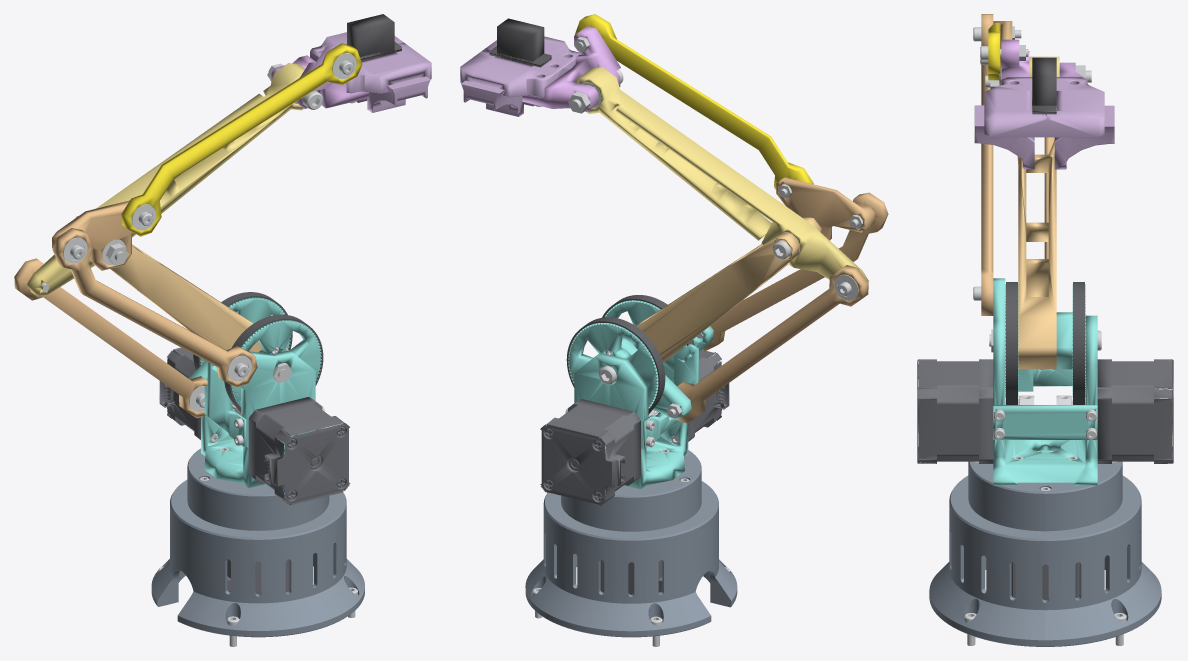
Rendered from arm.glb.
The picture shows the model from 3 angles, left to right: view 1: azimuth 30°, elevation 25°; view 2: azimuth 150°, elevation 25°; view 3: azimuth 270°, elevation 25°; orthographic projection. The views are drawn at different scales.
Parts seen in each view (by area): view 1: yaw-base-housing, NEMA_17, upper_levelling_link_140_(BAM-made), yaw-bearing-cover, main_body, lower_shank_140, upper_shank_140, lower_levelling_link_140, pleuel, gripper-base, triplate, 90T_gear_(lower) (+7 smaller); view 2: yaw-base-housing, upper_shank_140, NEMA_17_2, lower_shank_140, main_body, yaw-bearing-cover, upper_levelling_link_140_(BAM-made), pleuel, gripper-base, lower_levelling_link_140, triplate, manipulator (+8 smaller); view 3: yaw-base-housing, NEMA_17, NEMA_17_2, main_body, yaw-bearing-cover, lower_shank_140, gripper-base, stabilizer, lower_levelling_link_140, belt-shoulder-gt2-200, belt-elbow-gt2-200, gripper-mg90s (+8 smaller).
Boxes of the visible parts, x1,y1,x2,y2 form: yaw-base-housing: [151, 480, 364, 637]; NEMA_17: [248, 397, 350, 504]; upper_levelling_link_140_(BAM-made): [121, 43, 362, 236]; yaw-bearing-cover: [187, 448, 329, 530]; main_body: [201, 349, 315, 487]; lower_shank_140: [75, 216, 288, 352]; upper_shank_140: [27, 63, 304, 296]; lower_levelling_link_140: [52, 228, 257, 387]; pleuel: [14, 258, 207, 418]; gripper-base: [310, 32, 431, 93]; triplate: [52, 200, 132, 270]; 90T_gear_(lower): [231, 320, 321, 406]; yaw-base-housing: [525, 481, 737, 637]; upper_shank_140: [576, 67, 868, 281]; NEMA_17_2: [540, 399, 640, 505]; lower_shank_140: [636, 217, 821, 362]; main_body: [574, 326, 713, 489]; yaw-bearing-cover: [561, 450, 701, 531]; upper_levelling_link_140_(BAM-made): [575, 14, 813, 189]; pleuel: [676, 265, 868, 423]; gripper-base: [460, 36, 579, 97]; lower_levelling_link_140: [702, 192, 888, 351]; triplate: [776, 177, 874, 240]; manipulator: [522, 26, 620, 111]; yaw-base-housing: [929, 475, 1161, 646]; NEMA_17: [917, 359, 993, 463]; NEMA_17_2: [1097, 359, 1173, 463]; main_body: [993, 278, 1097, 485]; yaw-bearing-cover: [968, 461, 1122, 531]; lower_shank_140: [1017, 140, 1056, 369]; gripper-base: [984, 77, 1104, 137]; stabilizer: [993, 405, 1097, 439]; lower_levelling_link_140: [981, 14, 993, 315]; belt-shoulder-gt2-200: [1006, 282, 1017, 404]; belt-elbow-gt2-200: [1073, 282, 1084, 404]; gripper-mg90s: [1032, 57, 1056, 114].
Bounding box in the file's own units: 0.2426 × 0.3373 × 0.128.
